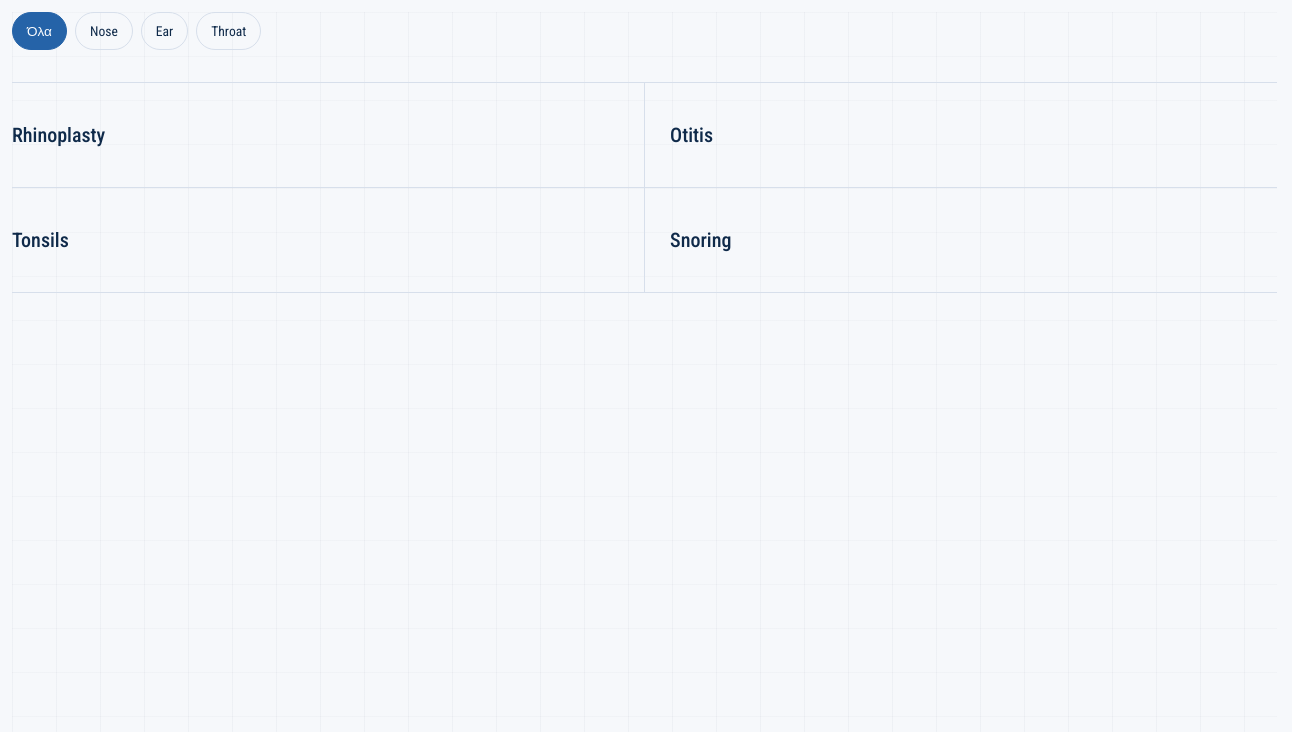
Test case: SectionIndexGrid filtering › filters items when a tag is clicked
This screenshot has width=1292, height=732.
Click the button "Ear" at [164, 31], box 141,12 -> 188,50
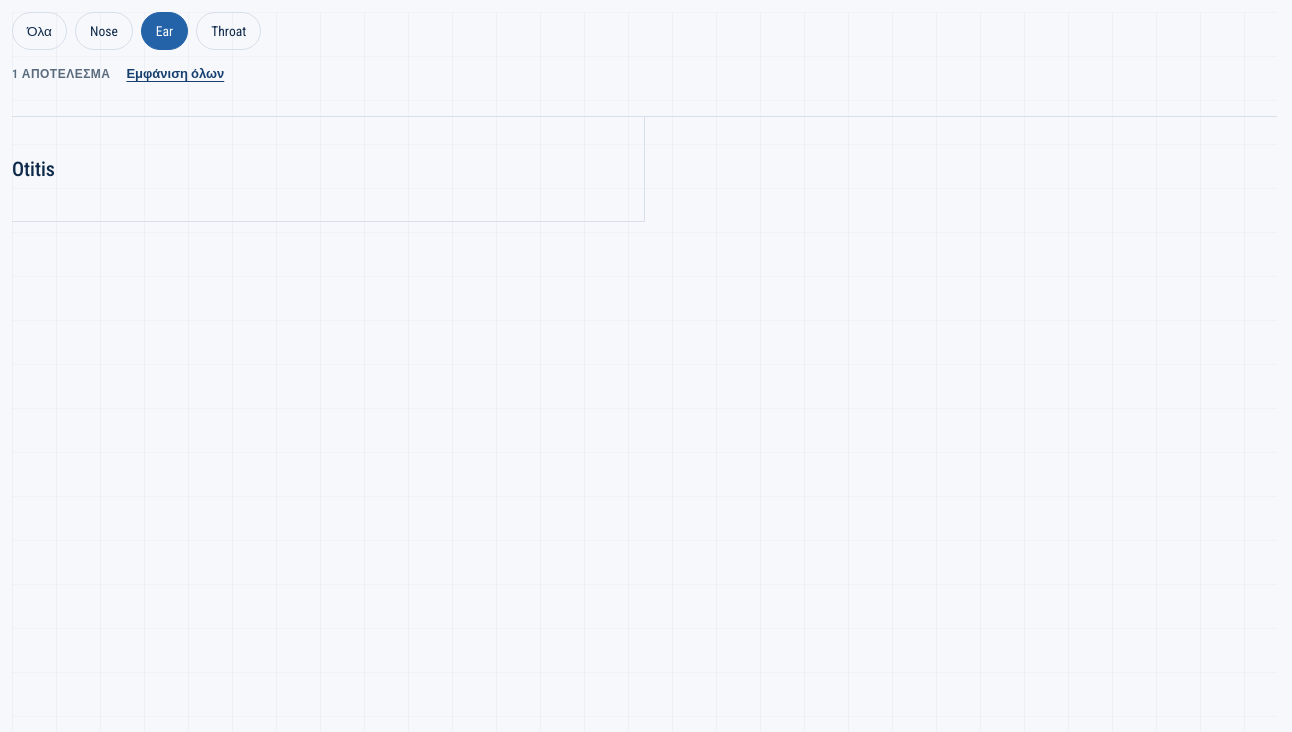
Result: the number of links is 1 at 12,157 -> 55,181
